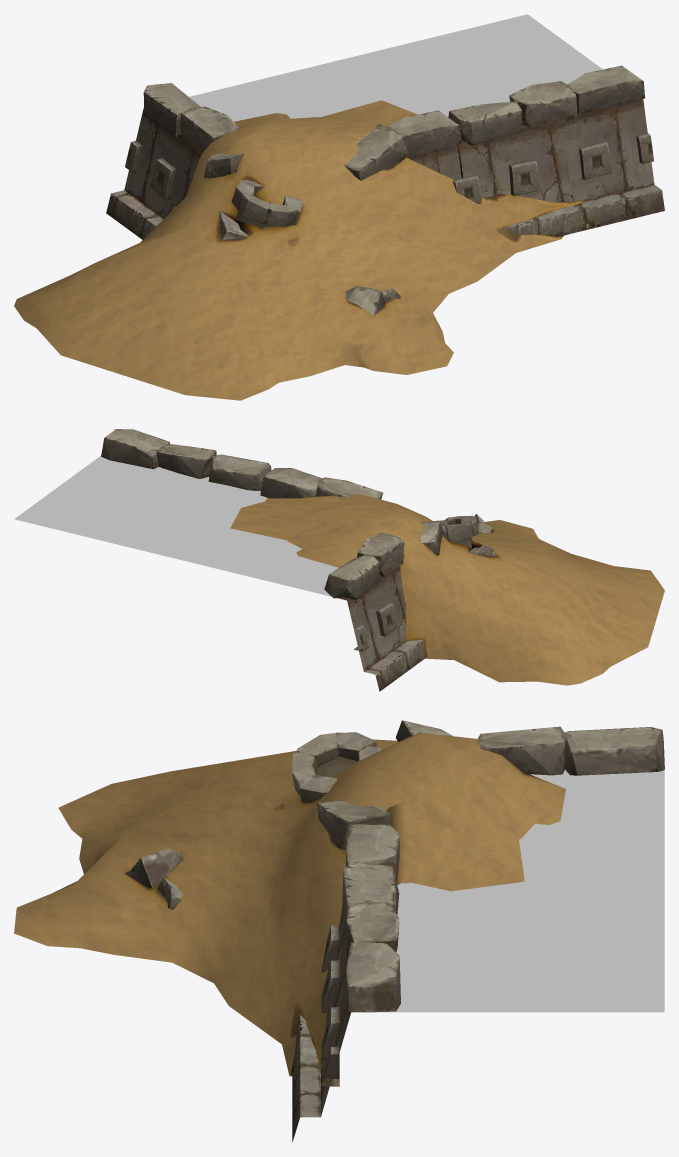
File: nashgar_trim_base4_ruins_01.FBX
The picture shows the model from 3 angles, top to bottom: view 1: azimuth 30°, elevation 25°; view 2: azimuth 150°, elevation 25°; view 3: azimuth 270°, elevation 25°; orthographic projection. The views are drawn at different scales.
Parts seen in each view (by area): view 1: nashgar_trim_base4_ruins_01; view 2: nashgar_trim_base4_ruins_01; view 3: nashgar_trim_base4_ruins_01.
Part boxes in pixels (box(x1,y1,x2,y2)): nashgar_trim_base4_ruins_01: box(14, 14, 664, 400); nashgar_trim_base4_ruins_01: box(14, 429, 664, 691); nashgar_trim_base4_ruins_01: box(14, 720, 664, 1142).
Bounding box in the file's own units: 13.06 × 2.84 × 9.06.
